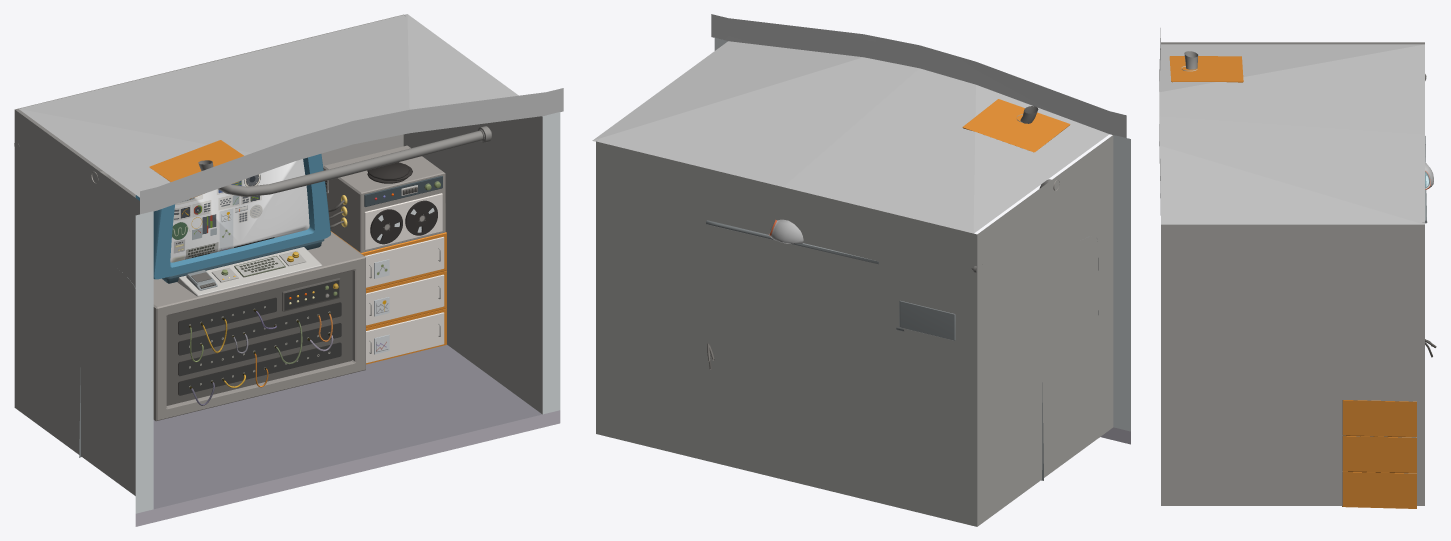
The model's file is modelingRoom00b.fbx.
The picture shows the model from 3 angles, left to right: view 1: azimuth 30°, elevation 25°; view 2: azimuth 150°, elevation 25°; view 3: azimuth 270°, elevation 25°; orthographic projection. The views are drawn at different scales.
Parts seen in each view (by area): view 1: modelingRoomWallsFloor.001, Cube.837, patchBoardDesk.001, modelingCabinets.004, modelingScreen, reelBox.001, modelingMonitor.001, V1CTrack_modelingRoom.001, reelSet.001, V1CDoor_modelingRoom.001, vinylStack.001; view 2: modelingRoomWallsFloor.001, Cube.837, V1CDoor_modelingRoom.001, oscilloscope.001, modelingRShelf00.001, stationDomeModel.001; view 3: modelingRoomWallsFloor.001, Cube.837, modelingCabinets.004, V1CDoor_modelingRoom.001.
Part boxes in pixels (left/top/right/bottom): modelingRoomWallsFloor.001: left=14, top=14, right=560, bottom=526; Cube.837: left=19, top=14, right=563, bottom=214; patchBoardDesk.001: left=153, top=232, right=365, bottom=421; modelingCabinets.004: left=330, top=231, right=446, bottom=364; modelingScreen: left=170, top=159, right=309, bottom=262; reelBox.001: left=323, top=145, right=445, bottom=252; modelingMonitor.001: left=135, top=154, right=330, bottom=283; V1CTrack_modelingRoom.001: left=198, top=126, right=491, bottom=197; reelSet.001: left=370, top=200, right=437, bottom=244; V1CDoor_modelingRoom.001: left=149, top=140, right=243, bottom=199; vinylStack.001: left=367, top=162, right=412, bottom=183; modelingRoomWallsFloor.001: left=596, top=37, right=1130, bottom=526; Cube.837: left=592, top=14, right=1126, bottom=233; V1CDoor_modelingRoom.001: left=962, top=99, right=1070, bottom=152; oscilloscope.001: left=899, top=300, right=955, bottom=340; modelingRShelf00.001: left=706, top=220, right=878, bottom=264; stationDomeModel.001: left=769, top=219, right=803, bottom=243; modelingRoomWallsFloor.001: left=1161, top=42, right=1424, bottom=505; Cube.837: left=1159, top=28, right=1424, bottom=224; modelingCabinets.004: left=1342, top=400, right=1416, bottom=508; V1CDoor_modelingRoom.001: left=1169, top=56, right=1243, bottom=82.
Bounding box in the file's own units: 3512 × 2774 × 2072.
